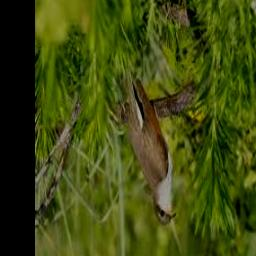Cuckoo: (124, 67, 177, 225)
